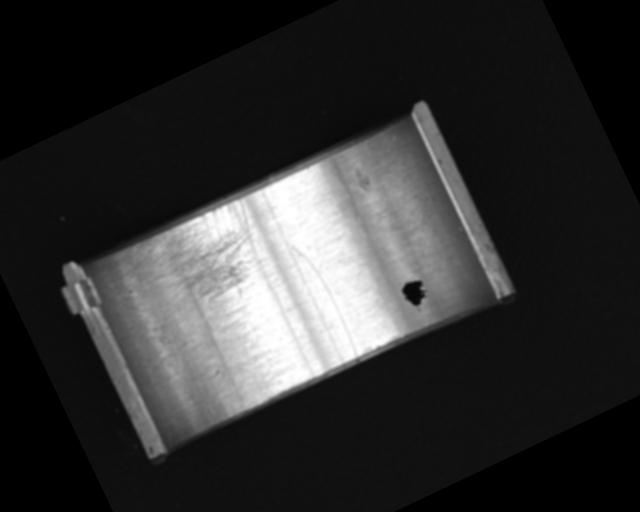blot: (397, 274, 434, 316)
bruise: (350, 163, 375, 194)
nick: (289, 237, 362, 365)
scratch: (130, 190, 281, 330)
